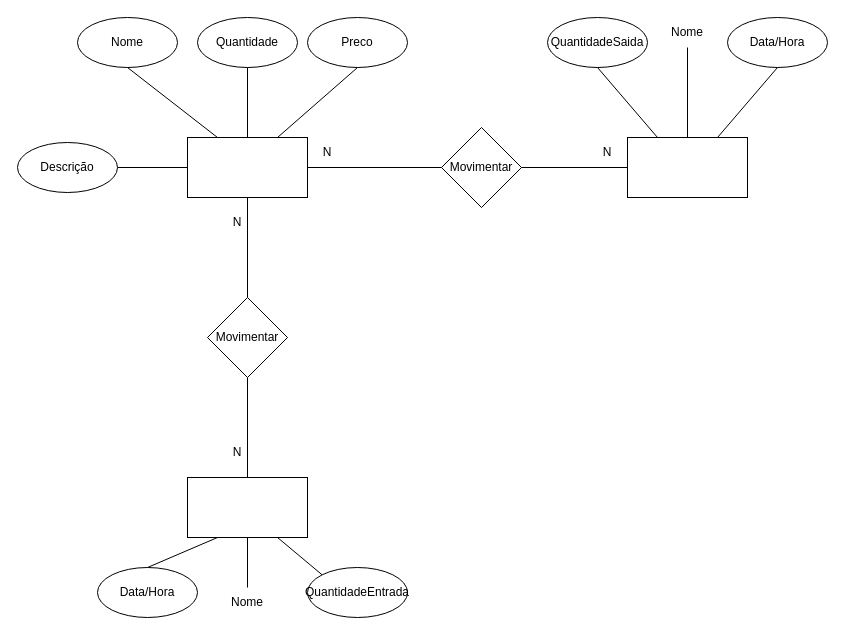
Image size: 845x635. Some labels were removed from this diagram. The box of each missing label's shape, as (x1, y1, x2, y2) in pixels:
Entrada: (186, 476, 308, 538)
Saida: (626, 136, 748, 198)
TProdutos: (186, 136, 308, 198)
